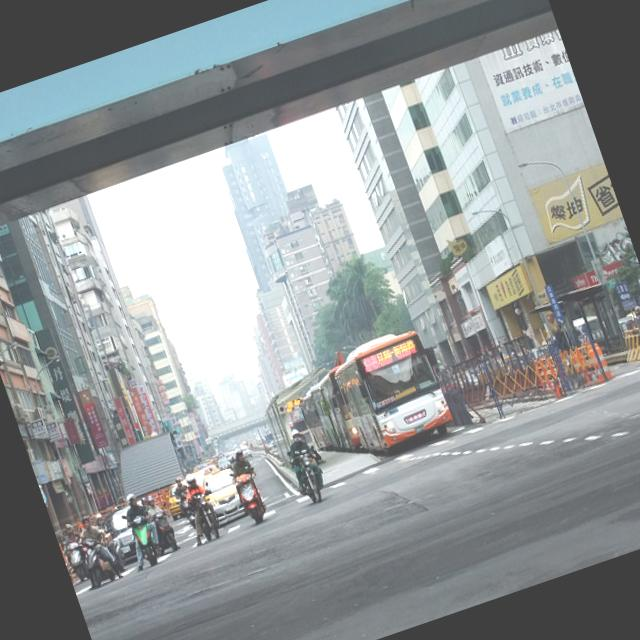Vehicle: (328, 323, 460, 467), (305, 364, 371, 459), (196, 461, 248, 526), (228, 466, 273, 528), (142, 499, 184, 558), (76, 532, 118, 589), (124, 512, 166, 568), (55, 526, 94, 584), (190, 486, 228, 544), (294, 392, 330, 452), (106, 504, 146, 558), (289, 451, 328, 506), (162, 478, 198, 521), (288, 416, 316, 453), (173, 488, 194, 521), (217, 456, 234, 474), (240, 444, 253, 459), (226, 449, 238, 462)
